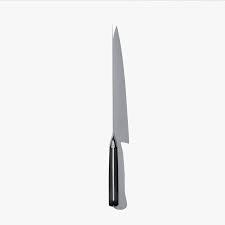Knife: (108, 24, 129, 209)
